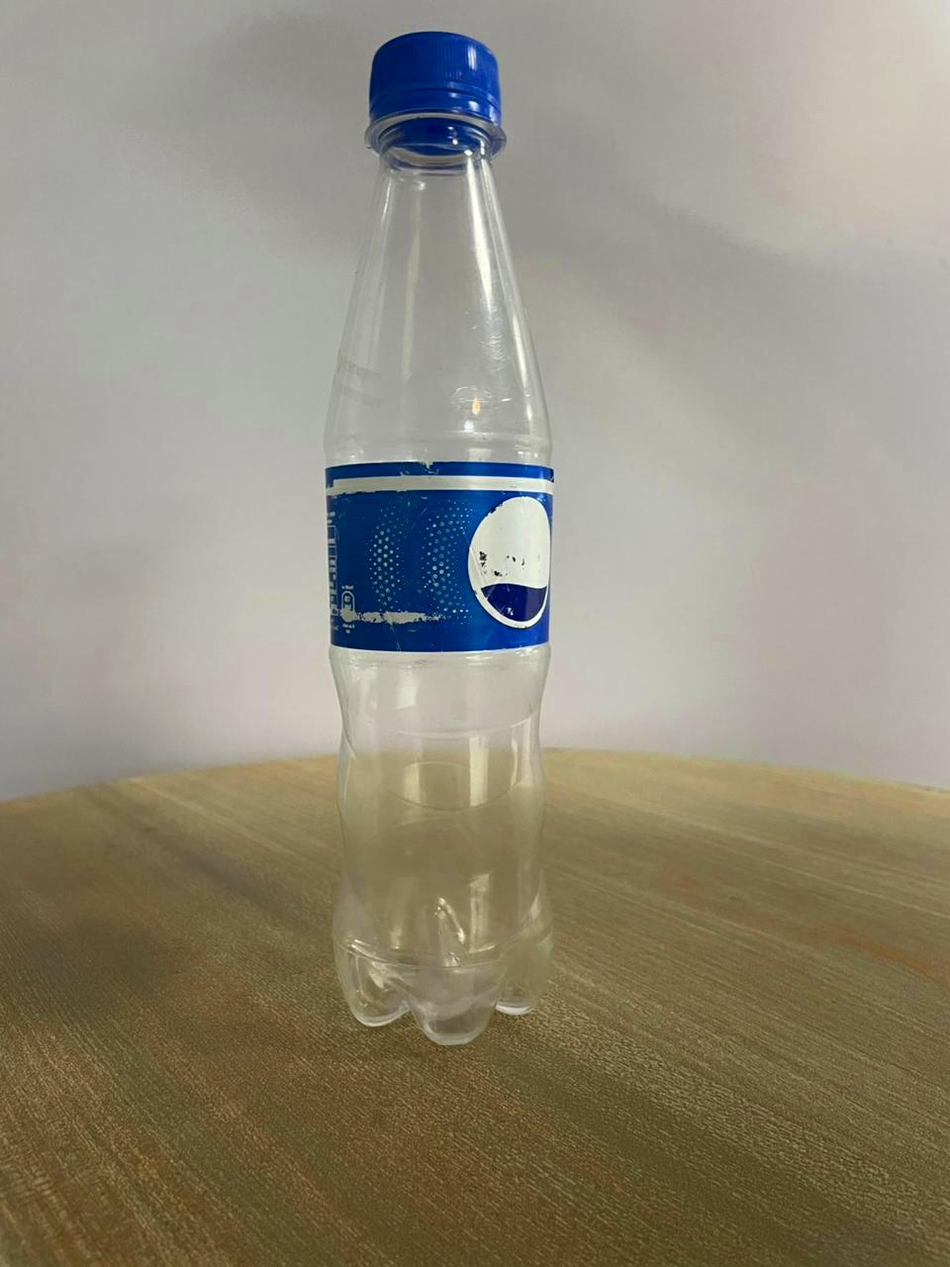Pepsi Bottle: (275, 25, 569, 1073), (279, 23, 574, 1065)
